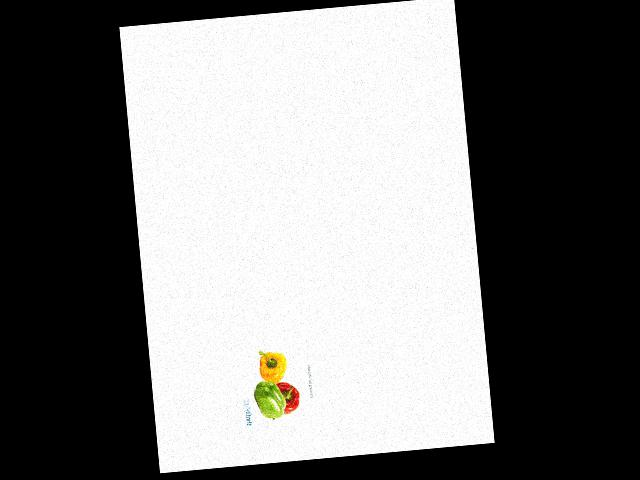bell_pepper: (249, 376, 286, 422)
